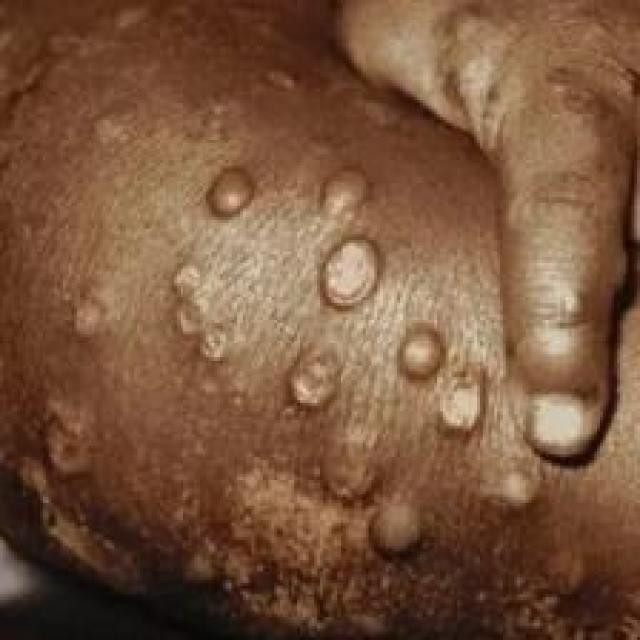Eczema: (46, 20, 640, 640)
